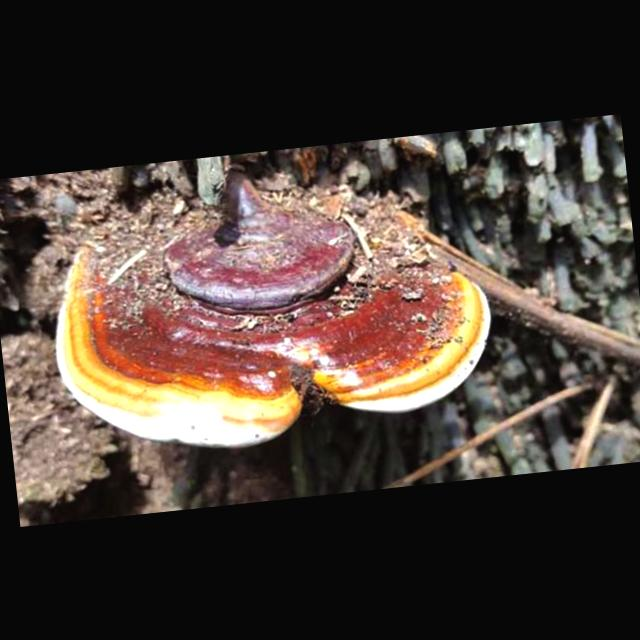ganoderma: (38, 149, 503, 469)
